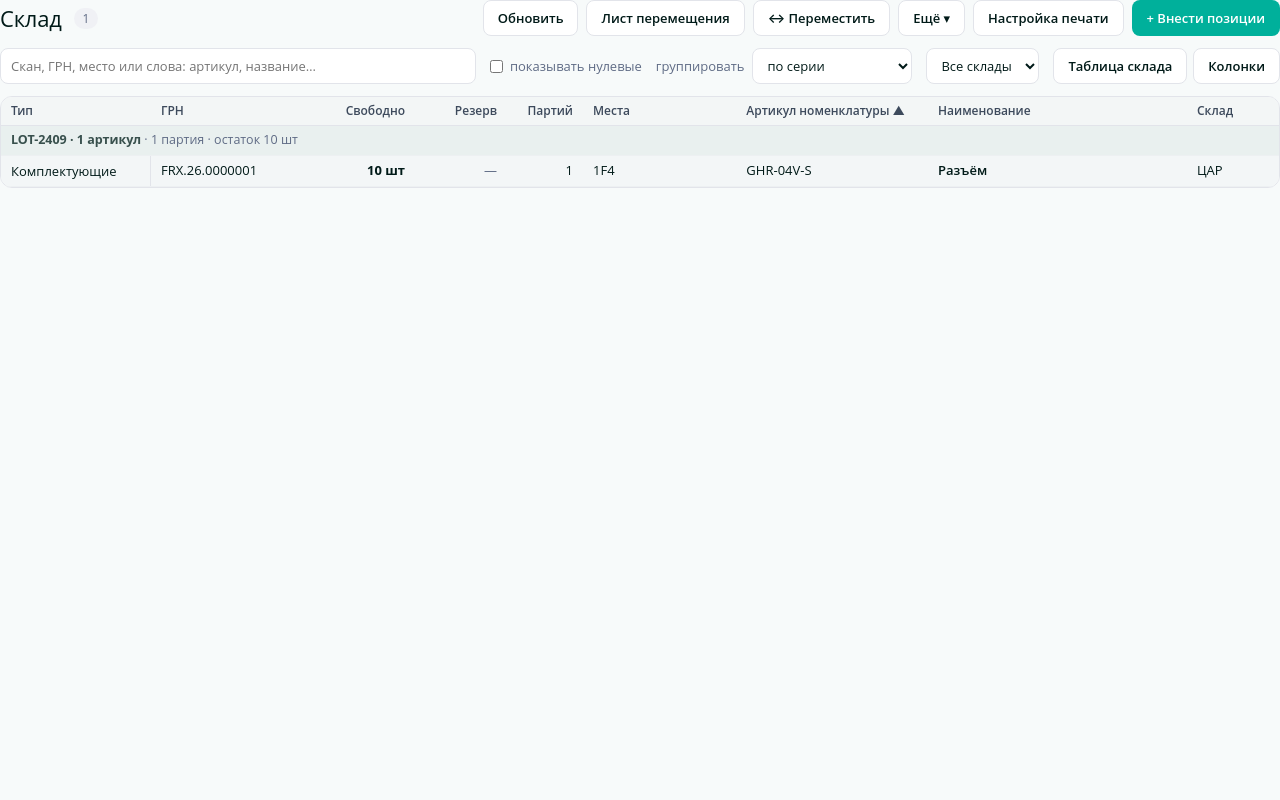
Scenario: offers no return on a lot that was never written off
What coordinates should you click on to do the following:
click the button with aria-label "Показать партии (1)"
I would click on:
 (1058, 171)
Its box is [938, 162, 1177, 180].
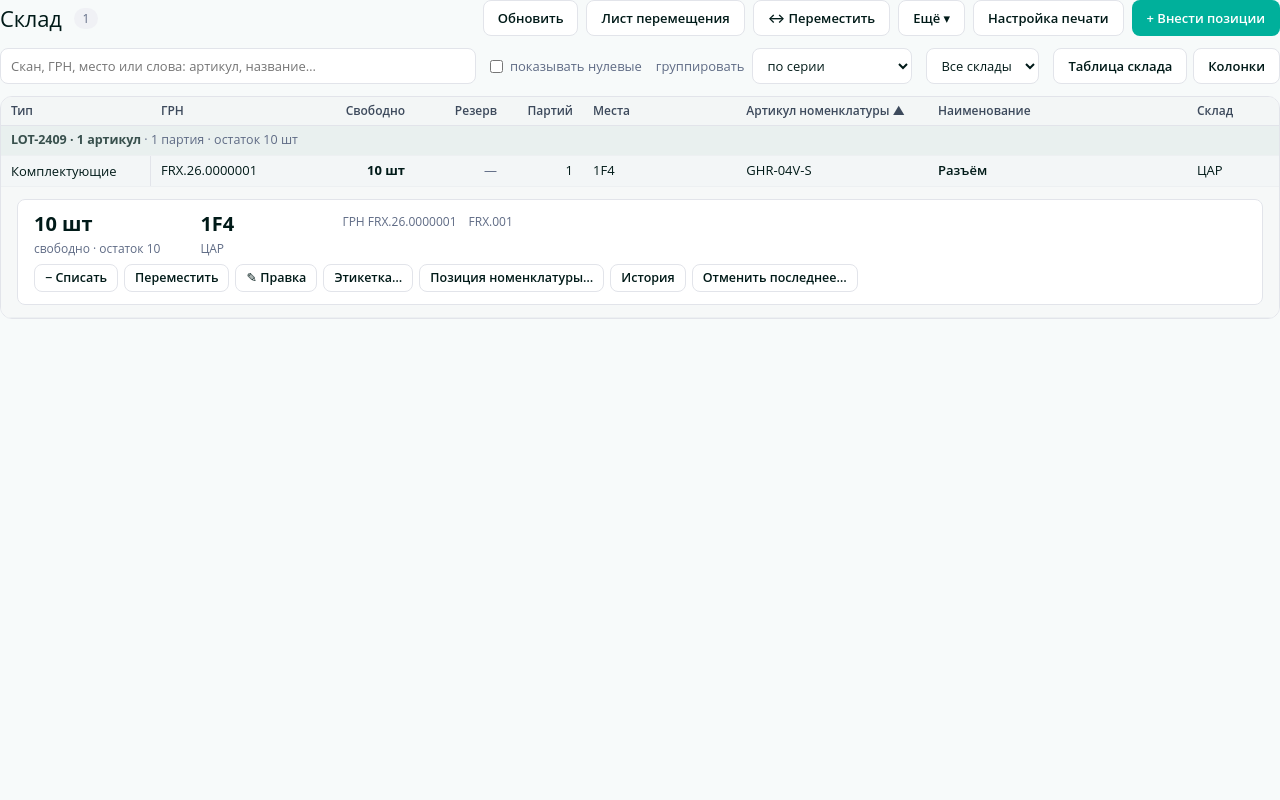
What coordinates should you click on to do the following:
click the button "− Списать"
I would click on:
 (76, 278)
Its box is [34, 264, 118, 292].
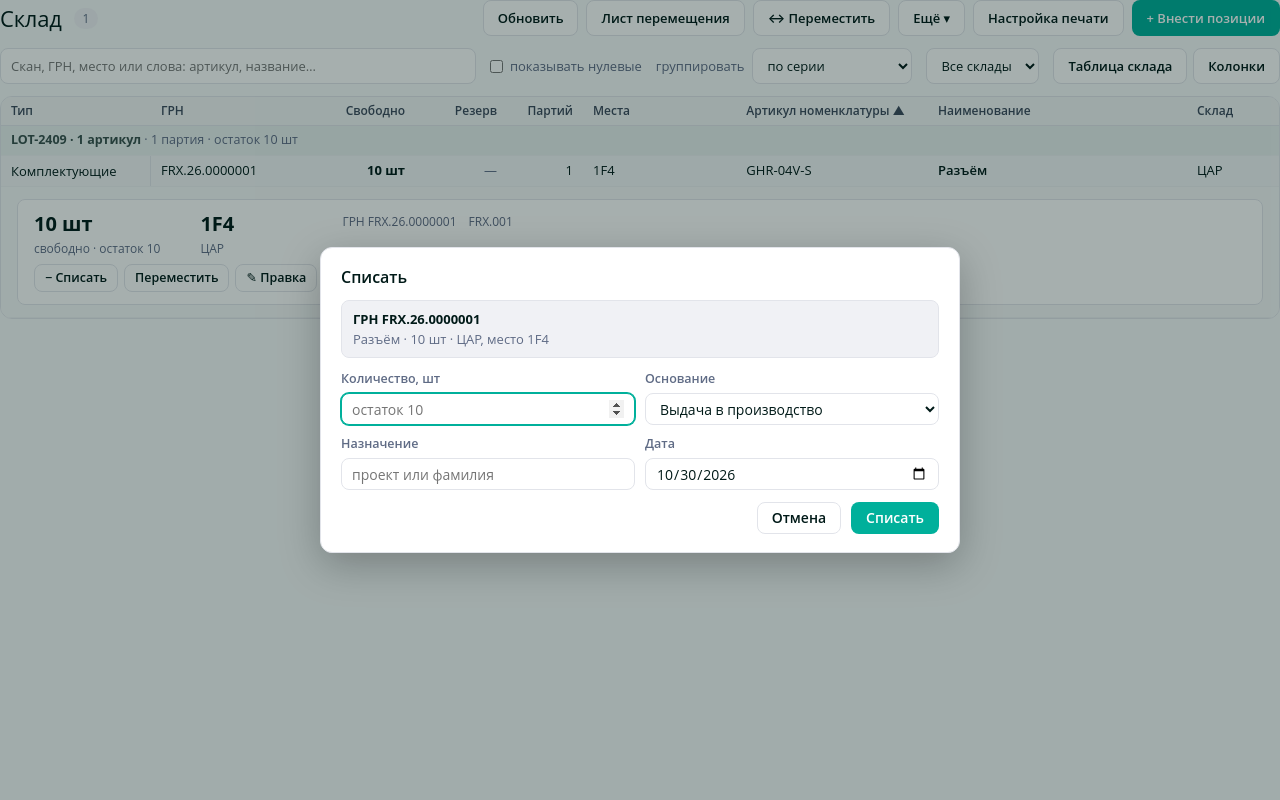
Expected: the button "Списать" is shown, [851, 502, 939, 534]
